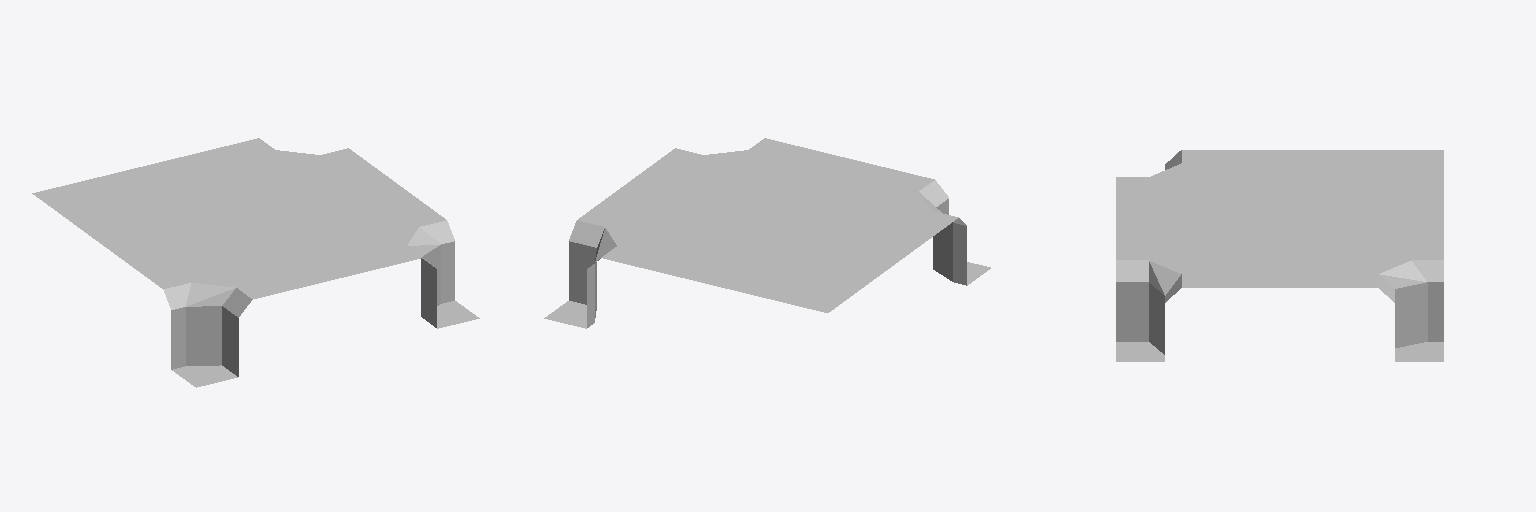
Rendered from cliff_Y.obj.
3 renders of one model, left to right at view 1: azimuth 30°, elevation 25°; view 2: azimuth 150°, elevation 25°; view 3: azimuth 270°, elevation 25°, orthographic.
Visible parts, largest first — view 1: cliff_Y_Cube.058; view 2: cliff_Y_Cube.058; view 3: cliff_Y_Cube.058.
Boxes of the visible parts, x1=… form: cliff_Y_Cube.058: x1=32, y1=138, x2=479, y2=387; cliff_Y_Cube.058: x1=544, y1=138, x2=990, y2=328; cliff_Y_Cube.058: x1=1116, y1=150, x2=1443, y2=361.
Size of the model in its own units: 2 by 0.5 by 2.